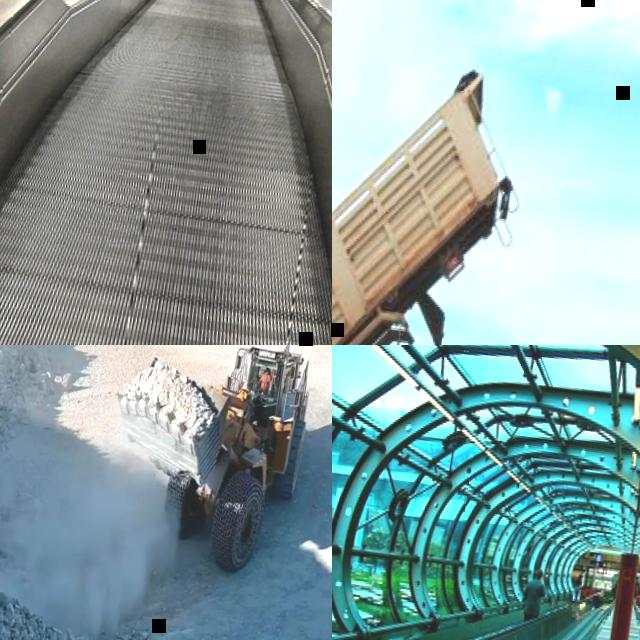NO-Hardhat: (533, 568, 544, 580), (265, 369, 270, 375), (577, 582, 580, 586)
NO-Safety Vest: (523, 578, 544, 614), (260, 376, 270, 392), (574, 586, 580, 594)
Person: (521, 569, 549, 623), (255, 368, 274, 392), (574, 582, 581, 601)
vehicle: (332, 30, 640, 345), (90, 345, 327, 583)
